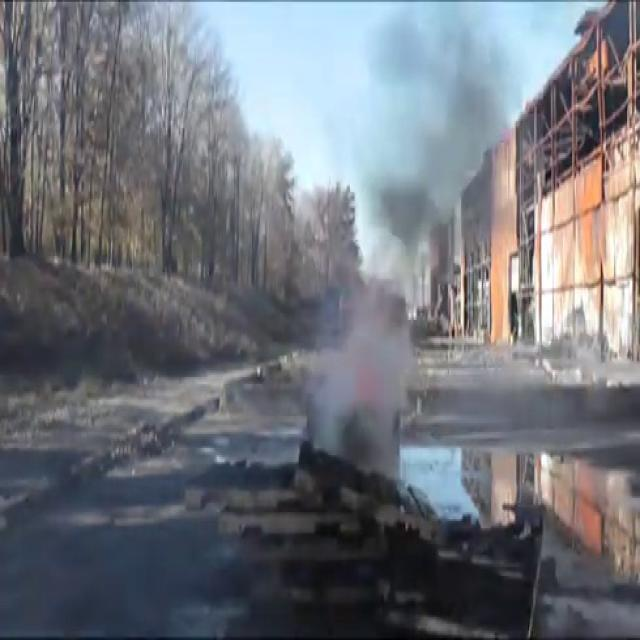Smoke: (309, 10, 515, 465)
